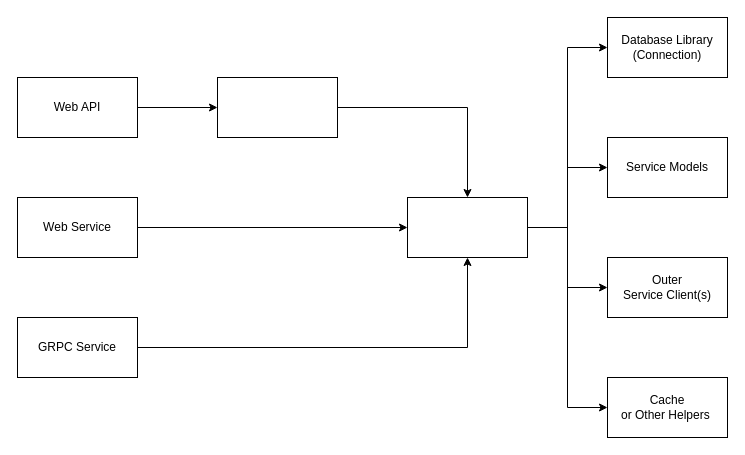
Some shapes in this 745 by 455 pixel diagram are drawn without their labels. Each missing label, with the centre of its shape:
"Service Extensions Library For Web API (DI, Config...etc.)" goes at [277,107].
"Service Library (Logic)" goes at [467,227].
